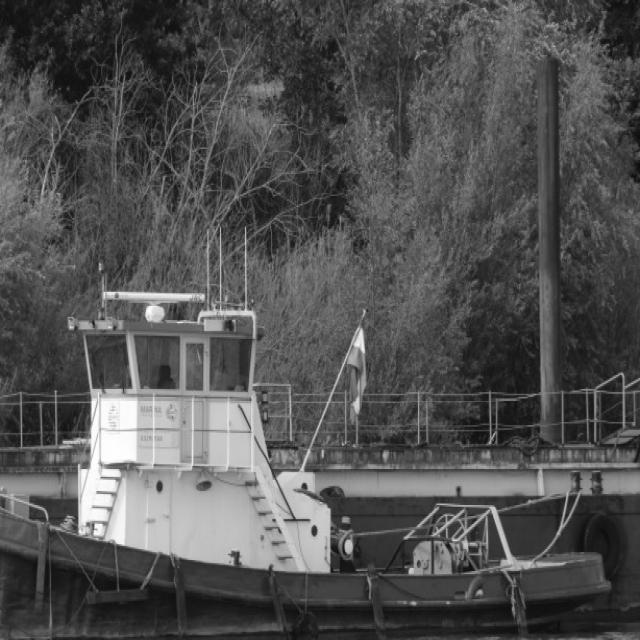tugboat: (1, 222, 617, 640)
